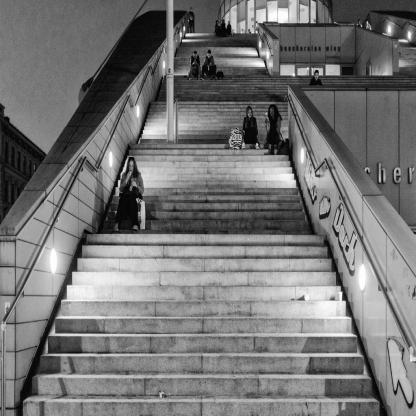person: (118, 155, 147, 233)
stair: (53, 225, 356, 416)
